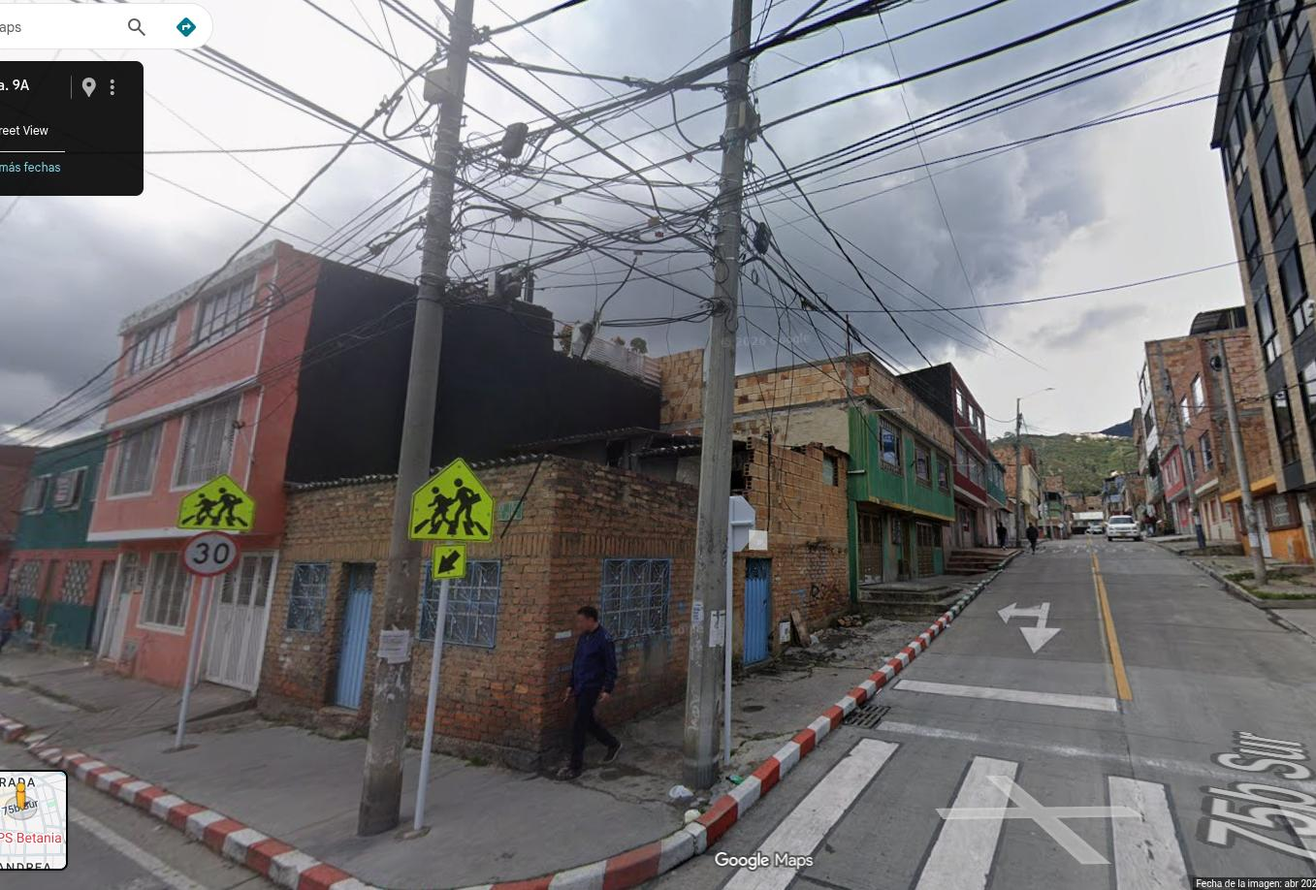casa: (87, 241, 415, 694), (434, 457, 696, 770), (786, 353, 956, 592), (258, 481, 393, 724), (728, 444, 849, 668), (408, 545, 439, 743)
poste: (383, 0, 473, 631), (685, 0, 752, 787), (359, 661, 410, 834)
